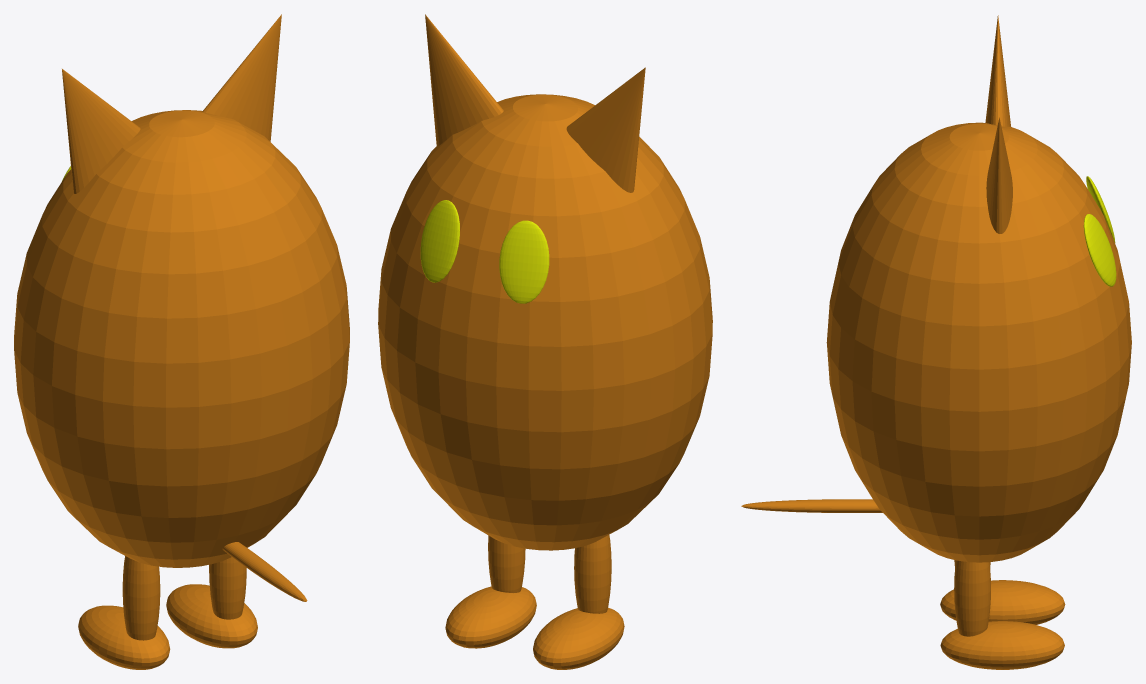
The model's file is cat.fbx.
3 renders of one model, left to right at view 1: azimuth 30°, elevation 25°; view 2: azimuth 150°, elevation 25°; view 3: azimuth 270°, elevation 25°, orthographic. The views are drawn at different scales.
Visible parts, largest first — view 1: Sphere, Cone.001, Cone, Sphere.003, Sphere.004, Sphere.002, Sphere.001, Sphere.007; view 2: Sphere, Cone.001, Cone, Sphere.003, Sphere.004, Sphere.006, Sphere.002, Sphere.005, Sphere.001; view 3: Sphere, Sphere.004, Sphere.003, Sphere.001, Cone, Sphere.007, Cone.001, Sphere.005.
Boxes of the visible parts, bbox=[...] form: Sphere: bbox=[14, 110, 349, 567]; Cone.001: bbox=[62, 69, 140, 193]; Cone: bbox=[202, 14, 281, 141]; Sphere.003: bbox=[78, 605, 170, 669]; Sphere.004: bbox=[166, 584, 257, 648]; Sphere.002: bbox=[122, 556, 160, 640]; Sphere.001: bbox=[209, 557, 246, 619]; Sphere.007: bbox=[222, 542, 307, 601]; Sphere: bbox=[378, 94, 712, 550]; Cone.001: bbox=[566, 67, 645, 192]; Cone: bbox=[425, 14, 503, 146]; Sphere.003: bbox=[533, 607, 624, 669]; Sphere.004: bbox=[445, 586, 536, 648]; Sphere.006: bbox=[499, 220, 549, 303]; Sphere.002: bbox=[574, 535, 611, 613]; Sphere.005: bbox=[420, 200, 459, 282]; Sphere.001: bbox=[488, 535, 525, 592]; Sphere: bbox=[826, 122, 1131, 562]; Sphere.004: bbox=[940, 621, 1064, 669]; Sphere.003: bbox=[940, 580, 1065, 624]; Sphere.001: bbox=[954, 560, 990, 636]; Cone: bbox=[986, 117, 1012, 233]; Sphere.007: bbox=[741, 499, 882, 512]; Cone.001: bbox=[985, 15, 1010, 126]; Sphere.005: bbox=[1083, 214, 1116, 286].
Size of the model in its own units: 21.06 by 41.11 by 25.13.
